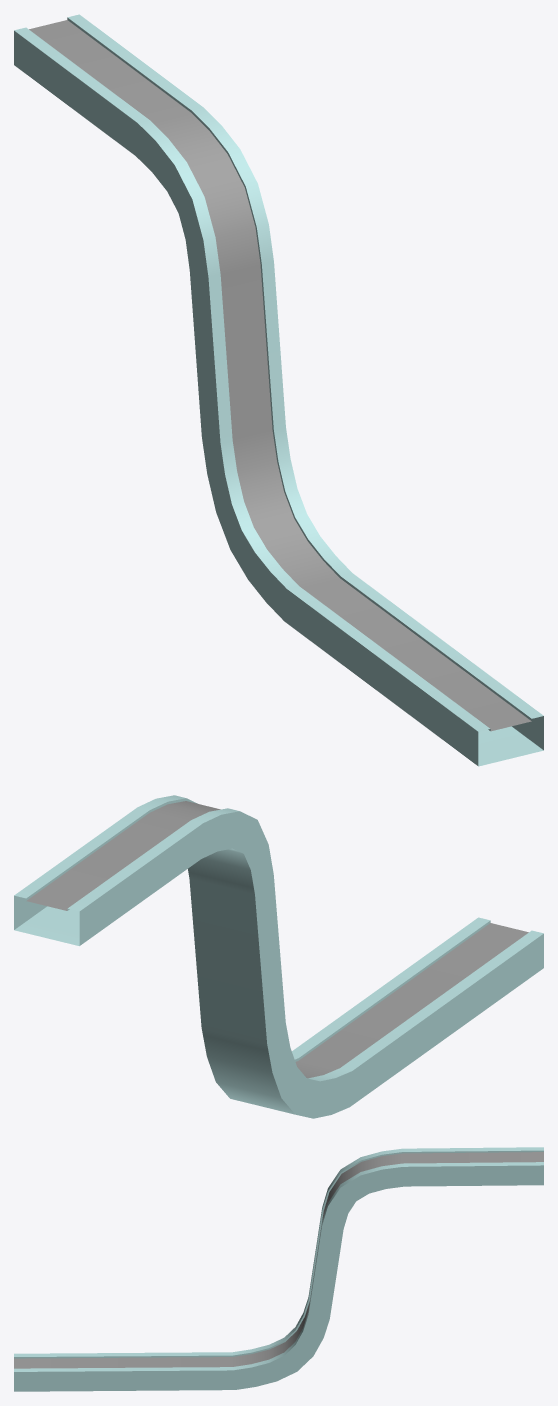
Rendered from down.fbx.
The picture shows the model from 3 angles, top to bottom: view 1: azimuth 30°, elevation 25°; view 2: azimuth 150°, elevation 25°; view 3: azimuth 270°, elevation 25°; orthographic projection. The views are drawn at different scales.
Parts seen in each view (by area): view 1: down; view 2: down; view 3: down.
Part boxes in pixels (x1=…): down: x1=14, y1=14, x2=543, y2=766; down: x1=14, y1=795, x2=543, y2=1118; down: x1=14, y1=1147, x2=543, y2=1391.
Bounding box in the file's own units: 204 × 1175 × 2495.
